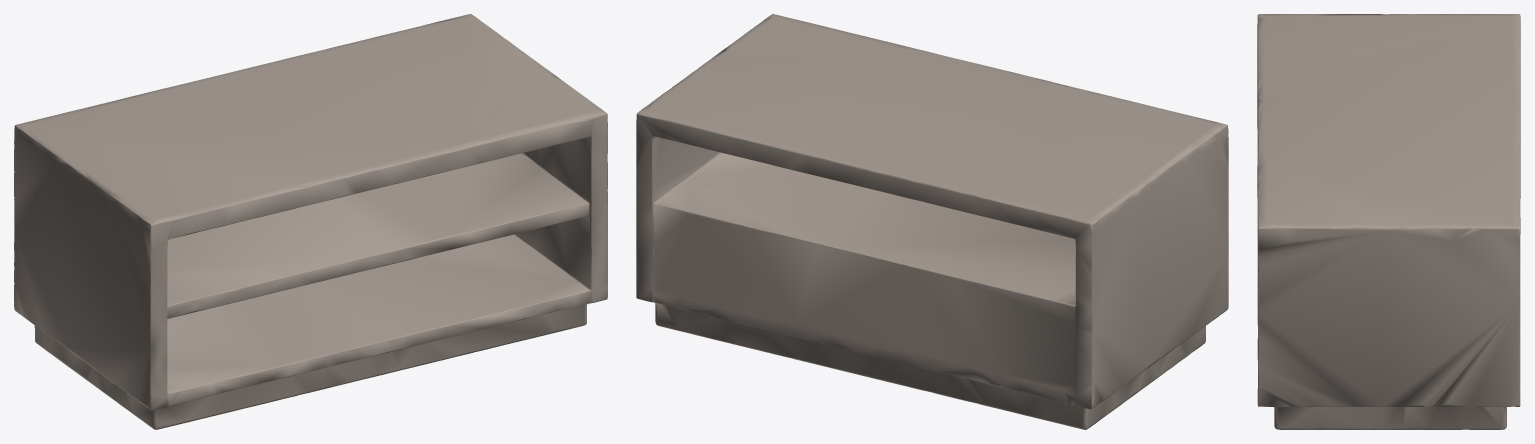
Rendered from shelf_unit.glb.
The picture shows the model from 3 angles, left to right: view 1: azimuth 30°, elevation 25°; view 2: azimuth 150°, elevation 25°; view 3: azimuth 270°, elevation 25°; orthographic projection. The views are drawn at different scales.
Size of the model in its own units: 0.9897 by 0.4492 by 0.5128.
